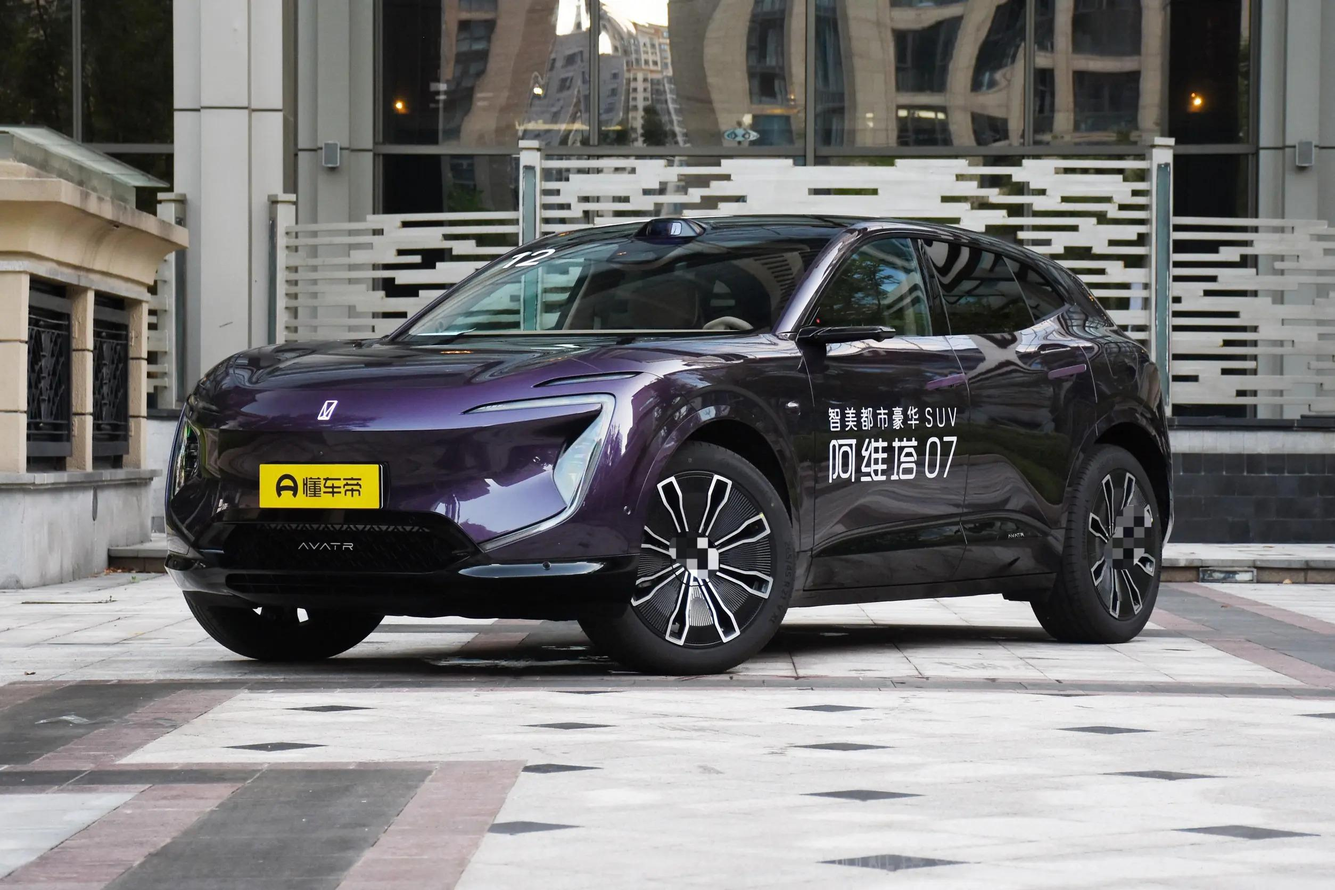AVATR: (317, 400, 337, 420)
